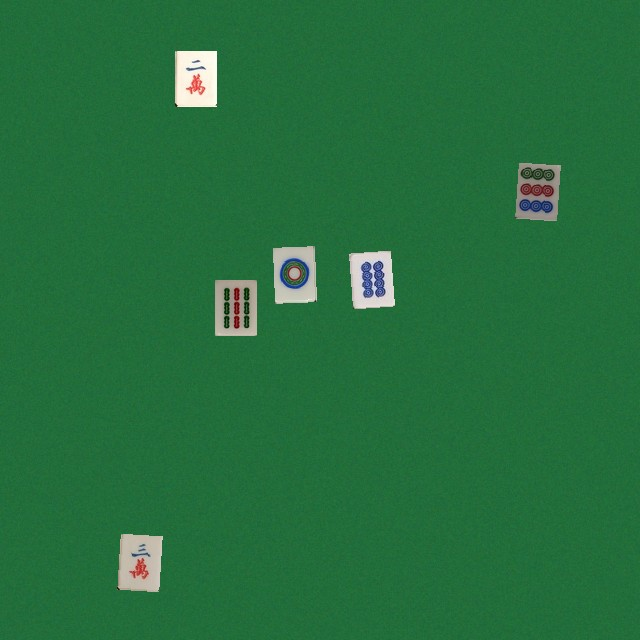tile: (117, 533, 159, 589), (214, 279, 256, 335), (174, 50, 216, 106), (348, 250, 390, 306), (515, 162, 557, 218), (272, 246, 314, 302)
